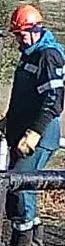gloves: (16, 128, 41, 159)
helmet: (9, 3, 44, 33)
vest: (4, 45, 64, 152)
